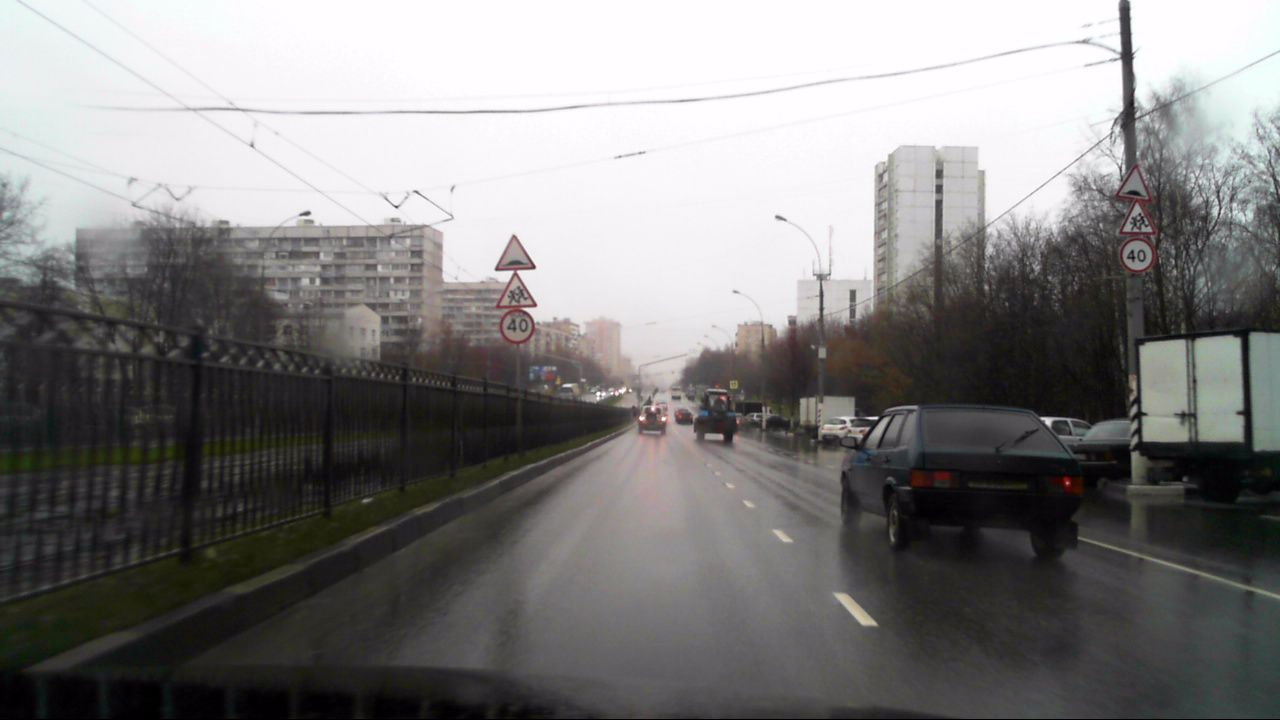speed_warning_40: (501, 309, 534, 343)
